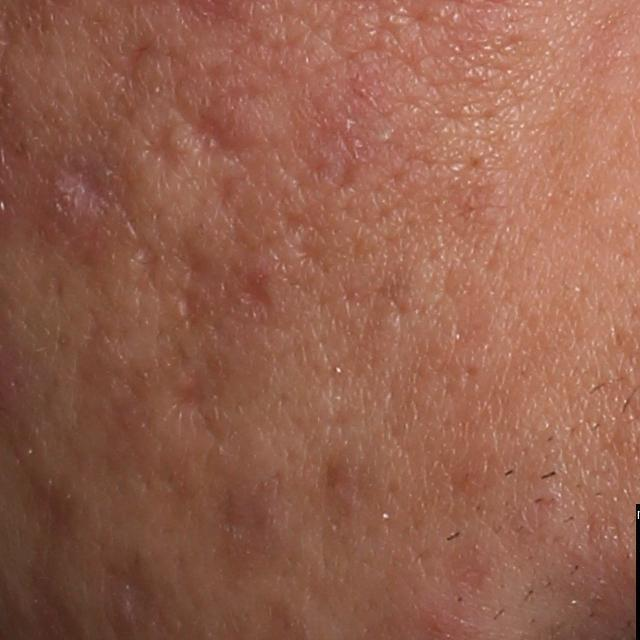atrophic_scar: (168, 256, 273, 330), (168, 91, 269, 160), (82, 18, 162, 103), (55, 152, 125, 221), (139, 116, 192, 177), (172, 369, 206, 413)
